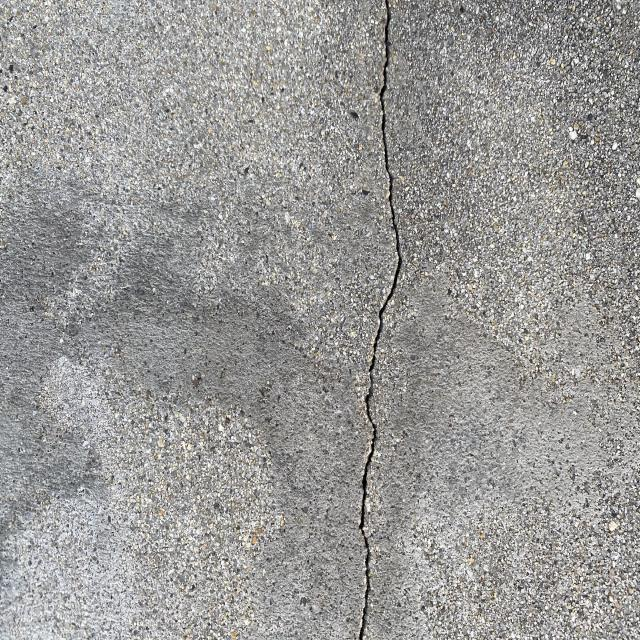SurfaceCrack: (305, 1, 441, 640)
